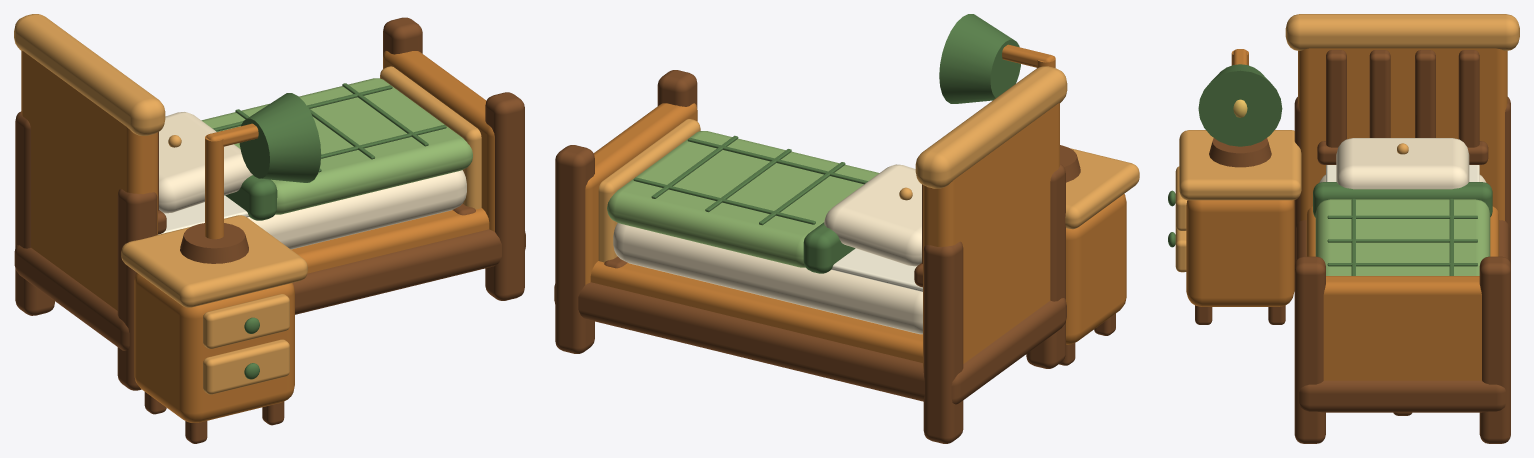
File: home-bed.glb
The picture shows the model from 3 angles, left to right: view 1: azimuth 30°, elevation 25°; view 2: azimuth 150°, elevation 25°; view 3: azimuth 270°, elevation 25°; orthographic projection. The views are drawn at different scales.
Parts seen in each view (by area): view 1: complete-honey-oak-bed-frame-with-four-posts-and-footboard-s (×8), low-slatted-headboard-with-rounded-top-rail-surface-0, sage-green-quilt-with-dark-folded-border-surface-0, separate-two-drawer-bedside-table-surface-0, separate-two-drawer-bedside-table-surface-2, cream-mattress-with-finished-edge-surface-0, low-slatted-headboard-with-rounded-top-rail-surface-2, curved-warm-reading-lamp-with-connected-base-surface-6, single-plump-cream-pillow-surface-0, separate-two-drawer-bedside-table-surface-8, separate-two-drawer-bedside-table-surface-4, curved-warm-reading-lamp-with-connected-base-surface-0 (+7 smaller); view 2: complete-honey-oak-bed-frame-with-four-posts-and-footboard-s (×8), low-slatted-headboard-with-rounded-top-rail-surface-0, sage-green-quilt-with-dark-folded-border-surface-0, cream-mattress-with-finished-edge-surface-0, low-slatted-headboard-with-rounded-top-rail-surface-2, separate-two-drawer-bedside-table-surface-0, single-plump-cream-pillow-surface-0, curved-warm-reading-lamp-with-connected-base-surface-6, separate-two-drawer-bedside-table-surface-2, cream-mattress-with-finished-edge-surface-2, sage-green-quilt-with-dark-folded-border-surface-2, sage-green-quilt-with-dark-folded-border-surface-8 (+2 smaller); view 3: complete-honey-oak-bed-frame-with-four-posts-and-footboard-s (×7), low-slatted-headboard-with-rounded-top-rail-surface-0, separate-two-drawer-bedside-table-surface-0, sage-green-quilt-with-dark-folded-border-surface-0, low-slatted-headboard-with-rounded-top-rail-surface-2, single-plump-cream-pillow-surface-0, separate-two-drawer-bedside-table-surface-2, curved-warm-reading-lamp-with-connected-base-surface-6, sage-green-quilt-with-dark-folded-border-surface-2, low-slatted-headboard-with-rounded-top-rail-surface-4, low-slatted-headboard-with-rounded-top-rail-surface-10, low-slatted-headboard-with-rounded-top-rail-surface-8 (+11 smaller).
Boxes of the visible parts, x1,y1,x2,y2 form: complete-honey-oak-bed-frame-with-four-posts-and-footboard-s (×8): (14,17,525,390); low-slatted-headboard-with-rounded-top-rail-surface-0: (21,50,157,310); sage-green-quilt-with-dark-folded-border-surface-0: (201,78,472,214); separate-two-drawer-bedside-table-surface-0: (134,272,294,422); separate-two-drawer-bedside-table-surface-2: (121,215,307,307); cream-mattress-with-finished-edge-surface-0: (247,170,466,249); low-slatted-headboard-with-rounded-top-rail-surface-2: (14,14,165,135); curved-warm-reading-lamp-with-connected-base-surface-6: (239,93,321,182); single-plump-cream-pillow-surface-0: (159,112,252,213); separate-two-drawer-bedside-table-surface-8: (203,294,289,348); separate-two-drawer-bedside-table-surface-4: (203,339,289,394); curved-warm-reading-lamp-with-connected-base-surface-0: (180,223,248,263); complete-honey-oak-bed-frame-with-four-posts-and-footboard-s (×8): (554,70,1066,443); low-slatted-headboard-with-rounded-top-rail-surface-0: (923,103,1059,368); sage-green-quilt-with-dark-folded-border-surface-0: (607,131,879,267); cream-mattress-with-finished-edge-surface-0: (613,223,922,334); low-slatted-headboard-with-rounded-top-rail-surface-2: (915,66,1067,188); separate-two-drawer-bedside-table-surface-0: (1066,194,1126,344); single-plump-cream-pillow-surface-0: (824,164,921,266); curved-warm-reading-lamp-with-connected-base-surface-6: (939,14,1020,103); separate-two-drawer-bedside-table-surface-2: (1065,148,1139,229); cream-mattress-with-finished-edge-surface-2: (831,248,922,291); sage-green-quilt-with-dark-folded-border-surface-2: (803,222,855,273); sage-green-quilt-with-dark-folded-border-surface-8: (633,177,815,224); complete-honey-oak-bed-frame-with-four-posts-and-footboard-s (×7): (1294,97,1510,443); low-slatted-headboard-with-rounded-top-rail-surface-0: (1298,48,1507,220); separate-two-drawer-bedside-table-surface-0: (1186,200,1294,306); sage-green-quilt-with-dark-folded-border-surface-0: (1315,199,1490,275); low-slatted-headboard-with-rounded-top-rail-surface-2: (1285,14,1519,50); single-plump-cream-pillow-surface-0: (1336,138,1469,189); separate-two-drawer-bedside-table-surface-2: (1179,130,1301,200); curved-warm-reading-lamp-with-connected-base-surface-6: (1198,64,1282,146); sage-green-quilt-with-dark-folded-border-surface-2: (1313,182,1492,217); low-slatted-headboard-with-rounded-top-rail-surface-4: (1458,50,1479,147); low-slatted-headboard-with-rounded-top-rail-surface-10: (1326,50,1346,147); low-slatted-headboard-with-rounded-top-rail-surface-8: (1369,50,1390,137).
Size of the model in its own units: 1.75 by 1.23 by 1.43.
